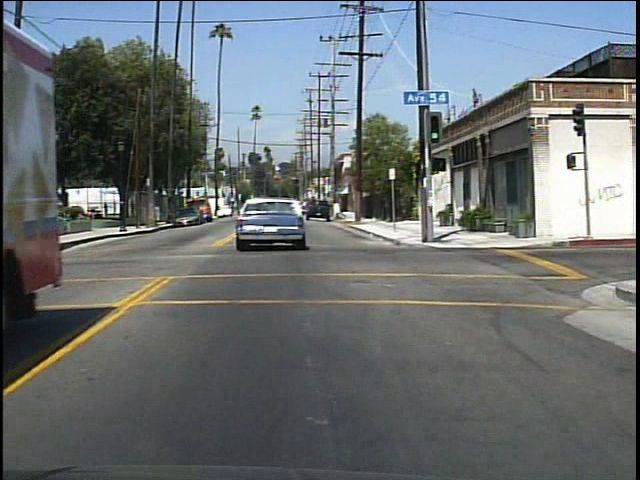person: (153, 203, 164, 230), (101, 200, 112, 220), (130, 200, 138, 220)
